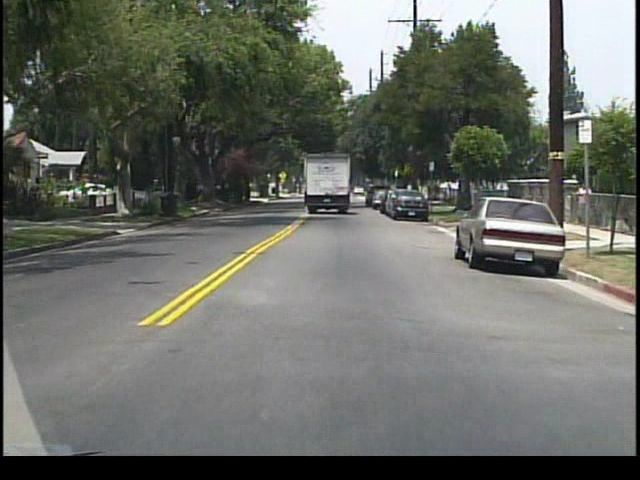person: (575, 178, 594, 226)
